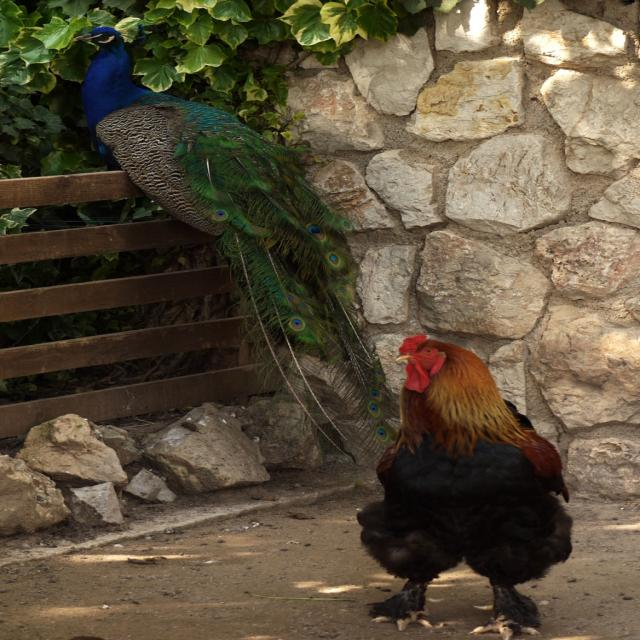Chicken: (348, 320, 582, 632)
